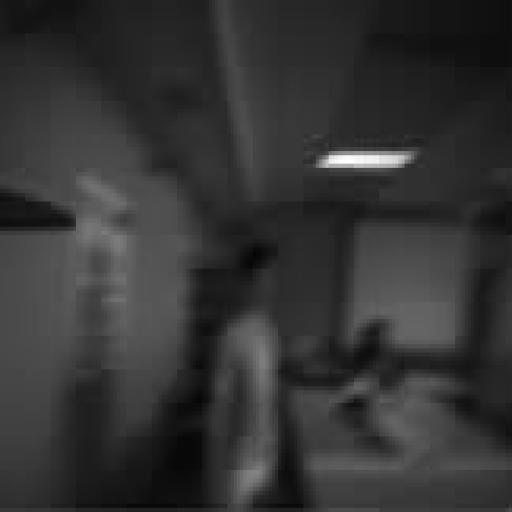human: (209, 240, 306, 511)
